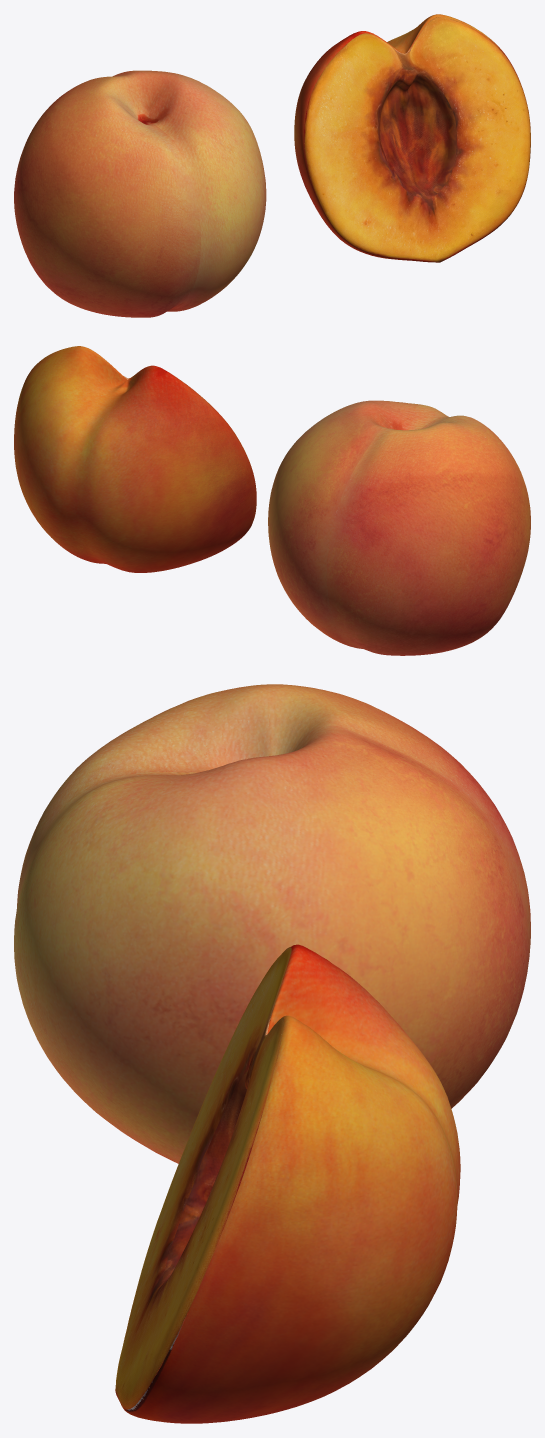
The model's file is peach.glb.
3 renders of one model, top to bottom at view 1: azimuth 30°, elevation 25°; view 2: azimuth 150°, elevation 25°; view 3: azimuth 270°, elevation 25°, orthographic. The views are drawn at different scales.
Parts seen in each view (by area): view 1: peach whole, peach half _Peach inside_0, peach half _Peach skin 2_0; view 2: peach whole, peach half _Peach skin 2_0; view 3: peach whole, peach half _Peach skin 2_0, peach half _Peach inside_0.
Part boxes in pixels (box(x1,y1,x2,y2)): peach whole: box(14, 70, 266, 317); peach half _Peach inside_0: box(304, 17, 530, 262); peach half _Peach skin 2_0: box(294, 14, 530, 262); peach whole: box(268, 400, 530, 655); peach half _Peach skin 2_0: box(14, 346, 256, 572); peach whole: box(14, 684, 530, 1163); peach half _Peach skin 2_0: box(115, 944, 460, 1423); peach half _Peach inside_0: box(115, 947, 291, 1409).
Size of the model in its own units: 5.82 by 2.57 by 2.73.
Materials: 3 (3 with a texture image).
